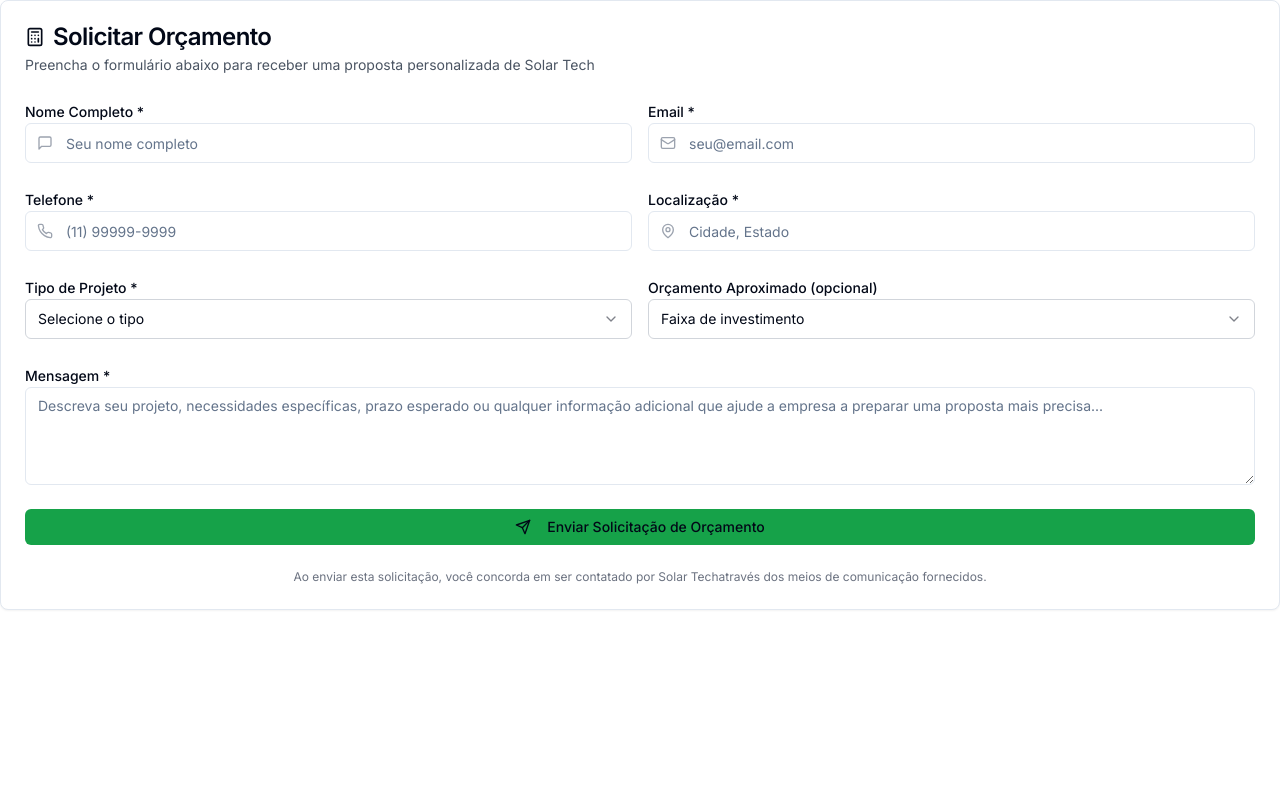
Scenario: QuoteRequestForm › shows validation errors for empty required fields
This screenshot has width=1280, height=800.
Click the button "Enviar Solicitação de Orçamento": (640, 527) top-left (25, 509), bottom-right (1255, 545)
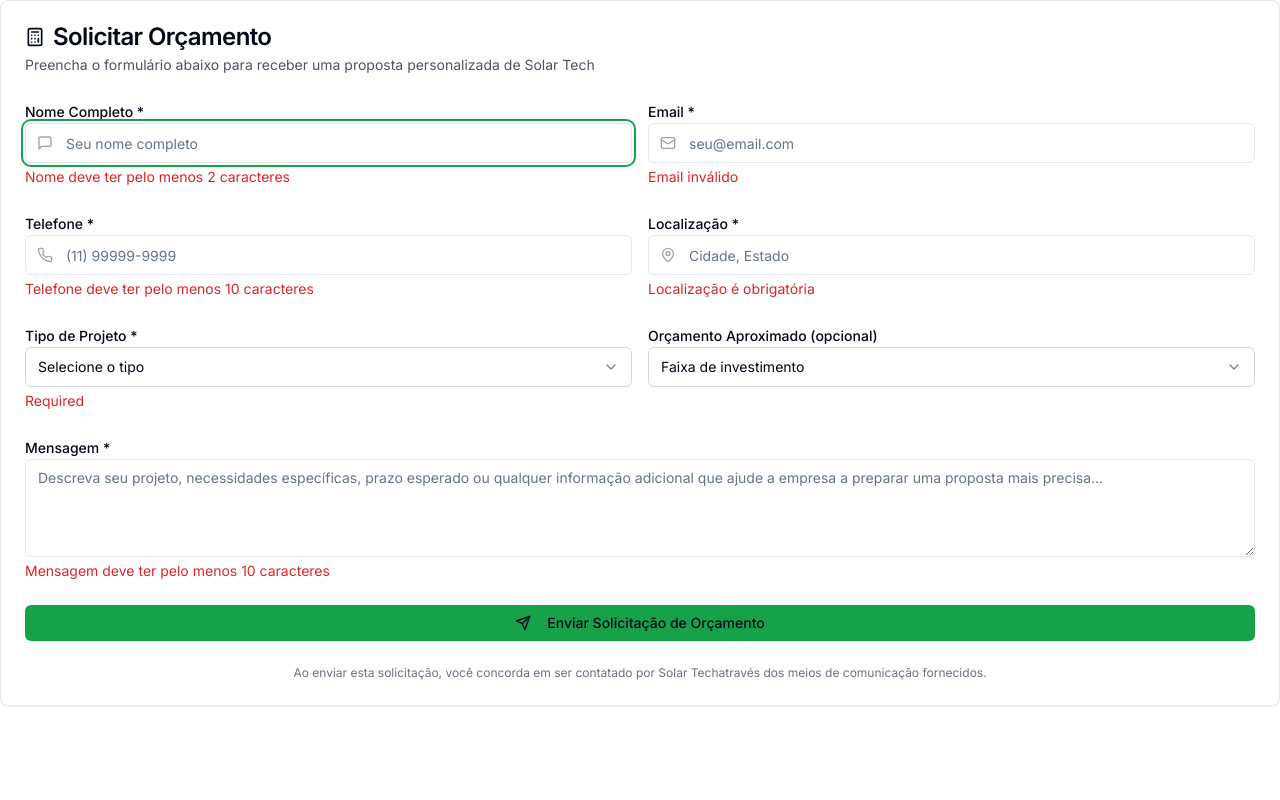
Expected: the text "Nome deve ter pelo menos 2 caracteres" is shown, top-left (25, 168), bottom-right (290, 185)
Expected: the text "Email inválido" is shown, top-left (648, 168), bottom-right (738, 185)
Expected: the text "Telefone deve ter pelo menos 10 caracteres" is shown, top-left (25, 280), bottom-right (314, 297)
